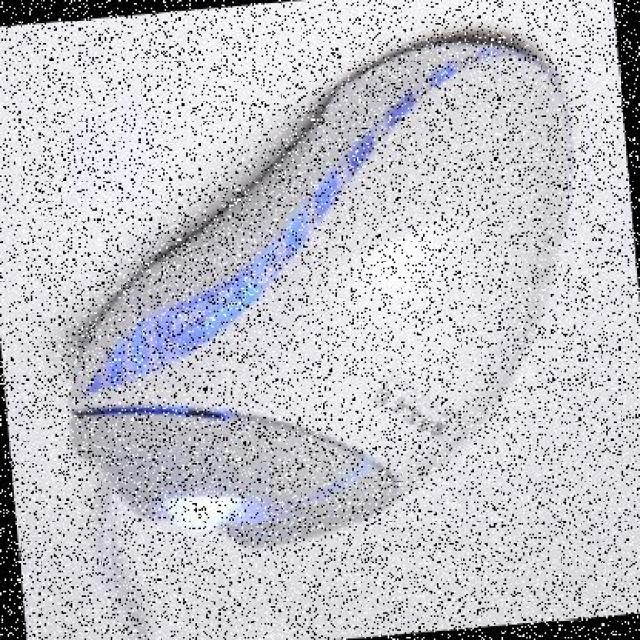mause: (8, 0, 634, 588)
